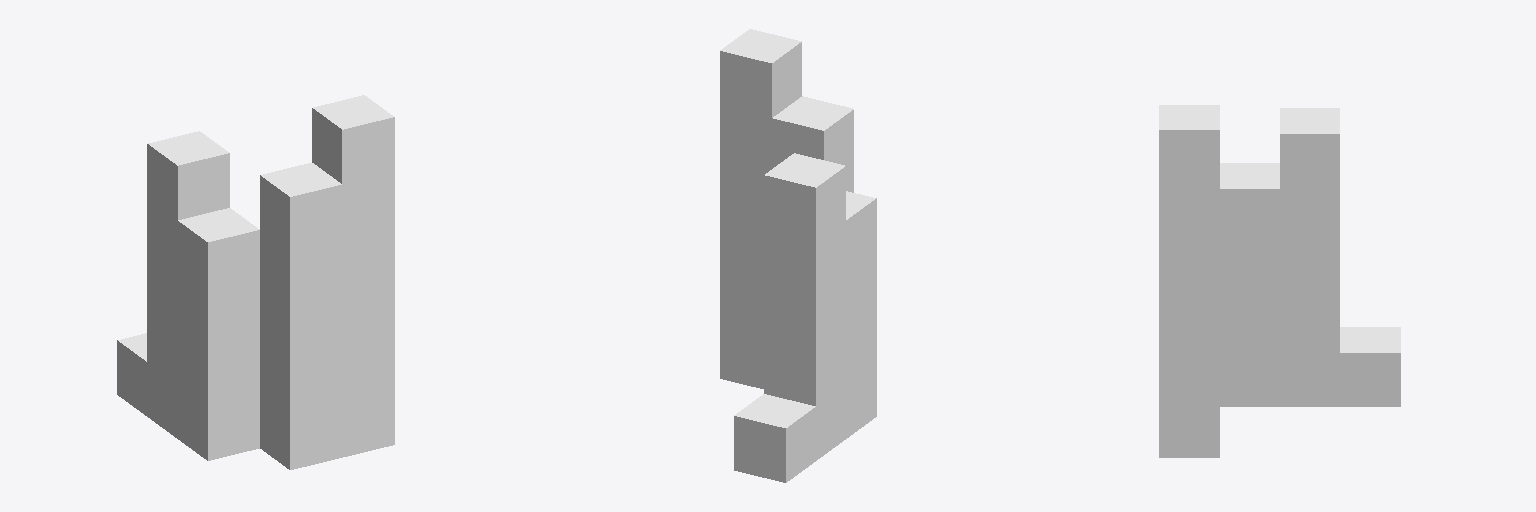
Rendered from YellowHouseParts-66.obj.
The picture shows the model from 3 angles: view 1: azimuth 30°, elevation 25°; view 2: azimuth 150°, elevation 25°; view 3: azimuth 270°, elevation 25°; orthographic projection.
Visible parts, largest first — view 1: object 1; view 2: object 1; view 3: object 1.
Boxes of the visible parts, box(x1,y1,x2,y2) form: object 1: box(117, 95, 394, 469); object 1: box(720, 29, 876, 482); object 1: box(1159, 105, 1400, 457).
Bounding box in the file's own units: 0.3 × 0.6 × 0.4.